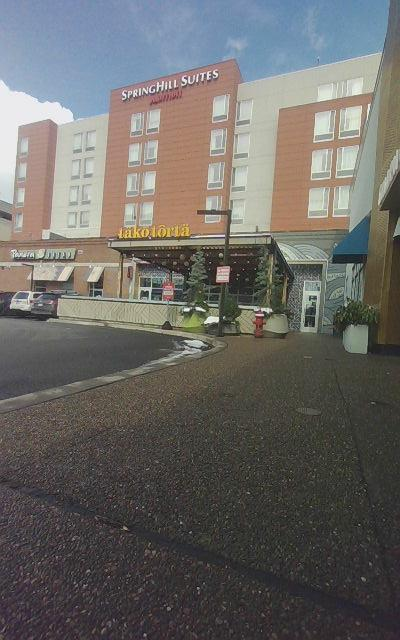curb: (0, 334, 399, 639)
road: (0, 317, 210, 399)
